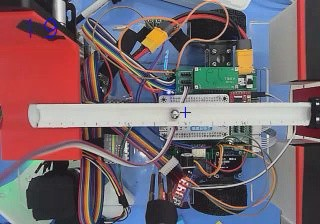ironball: (170, 110, 178, 118)
